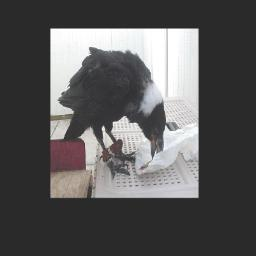Crow: (57, 46, 168, 180)
